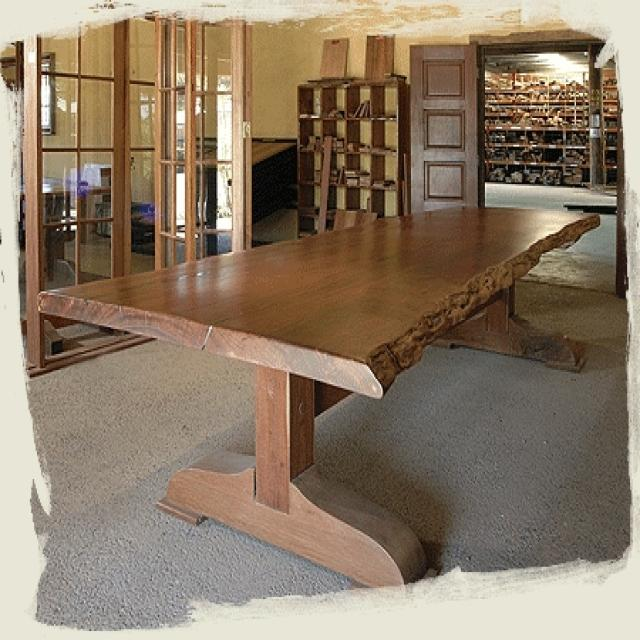table: (35, 203, 600, 599)
